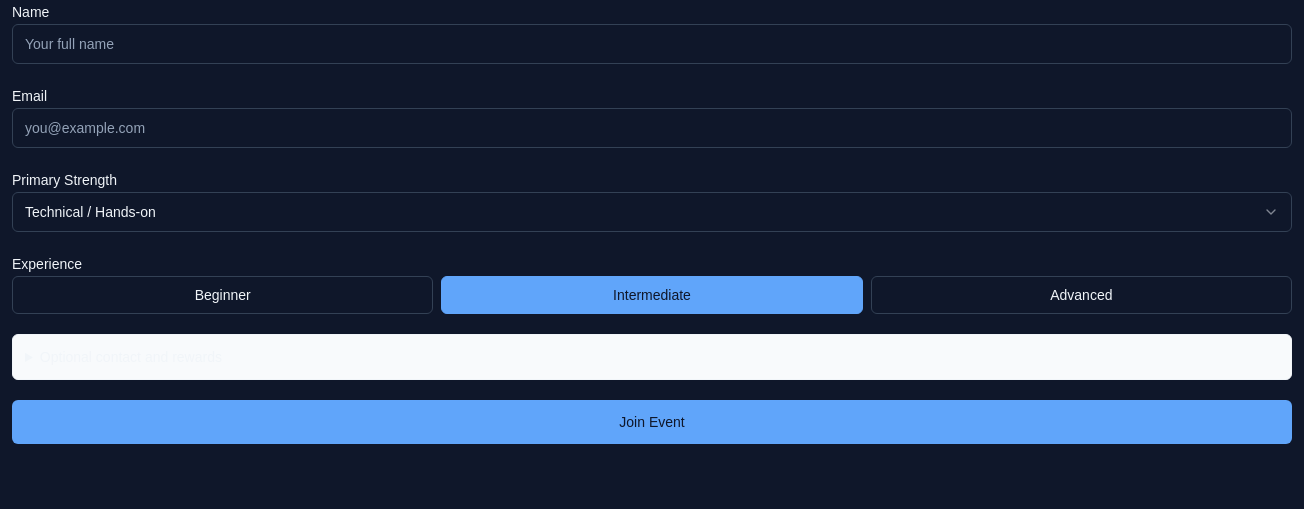
Test case: RegistrationForm › shows validation error when name is empty
Click the button "Join Event". click: (652, 422)
box: [12, 400, 1292, 444]
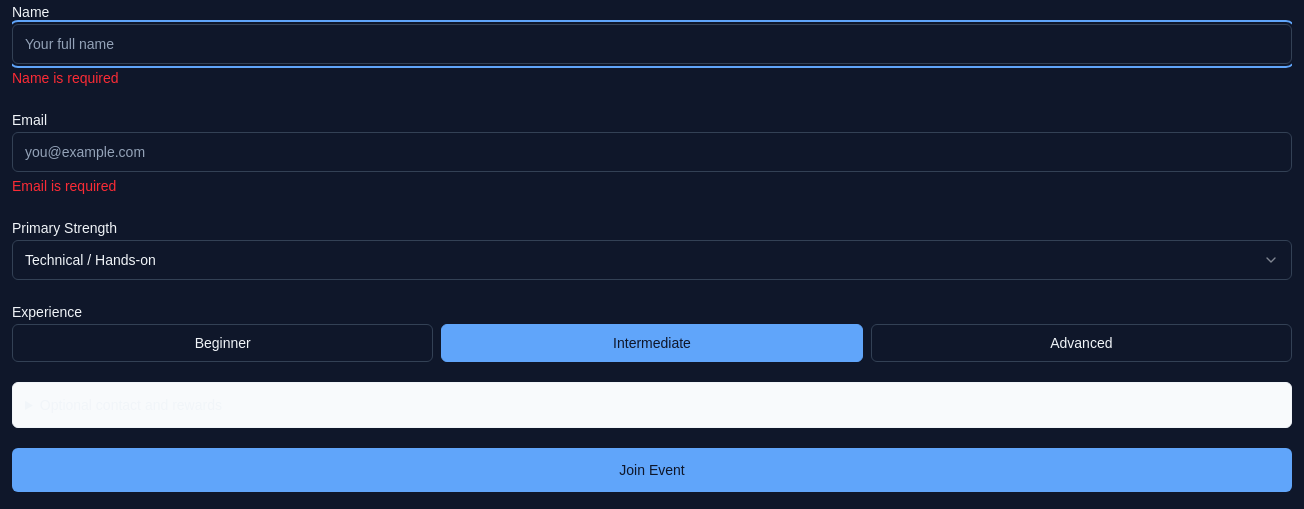
Check: the text "Name is required" is shown, box [12, 70, 119, 86]
